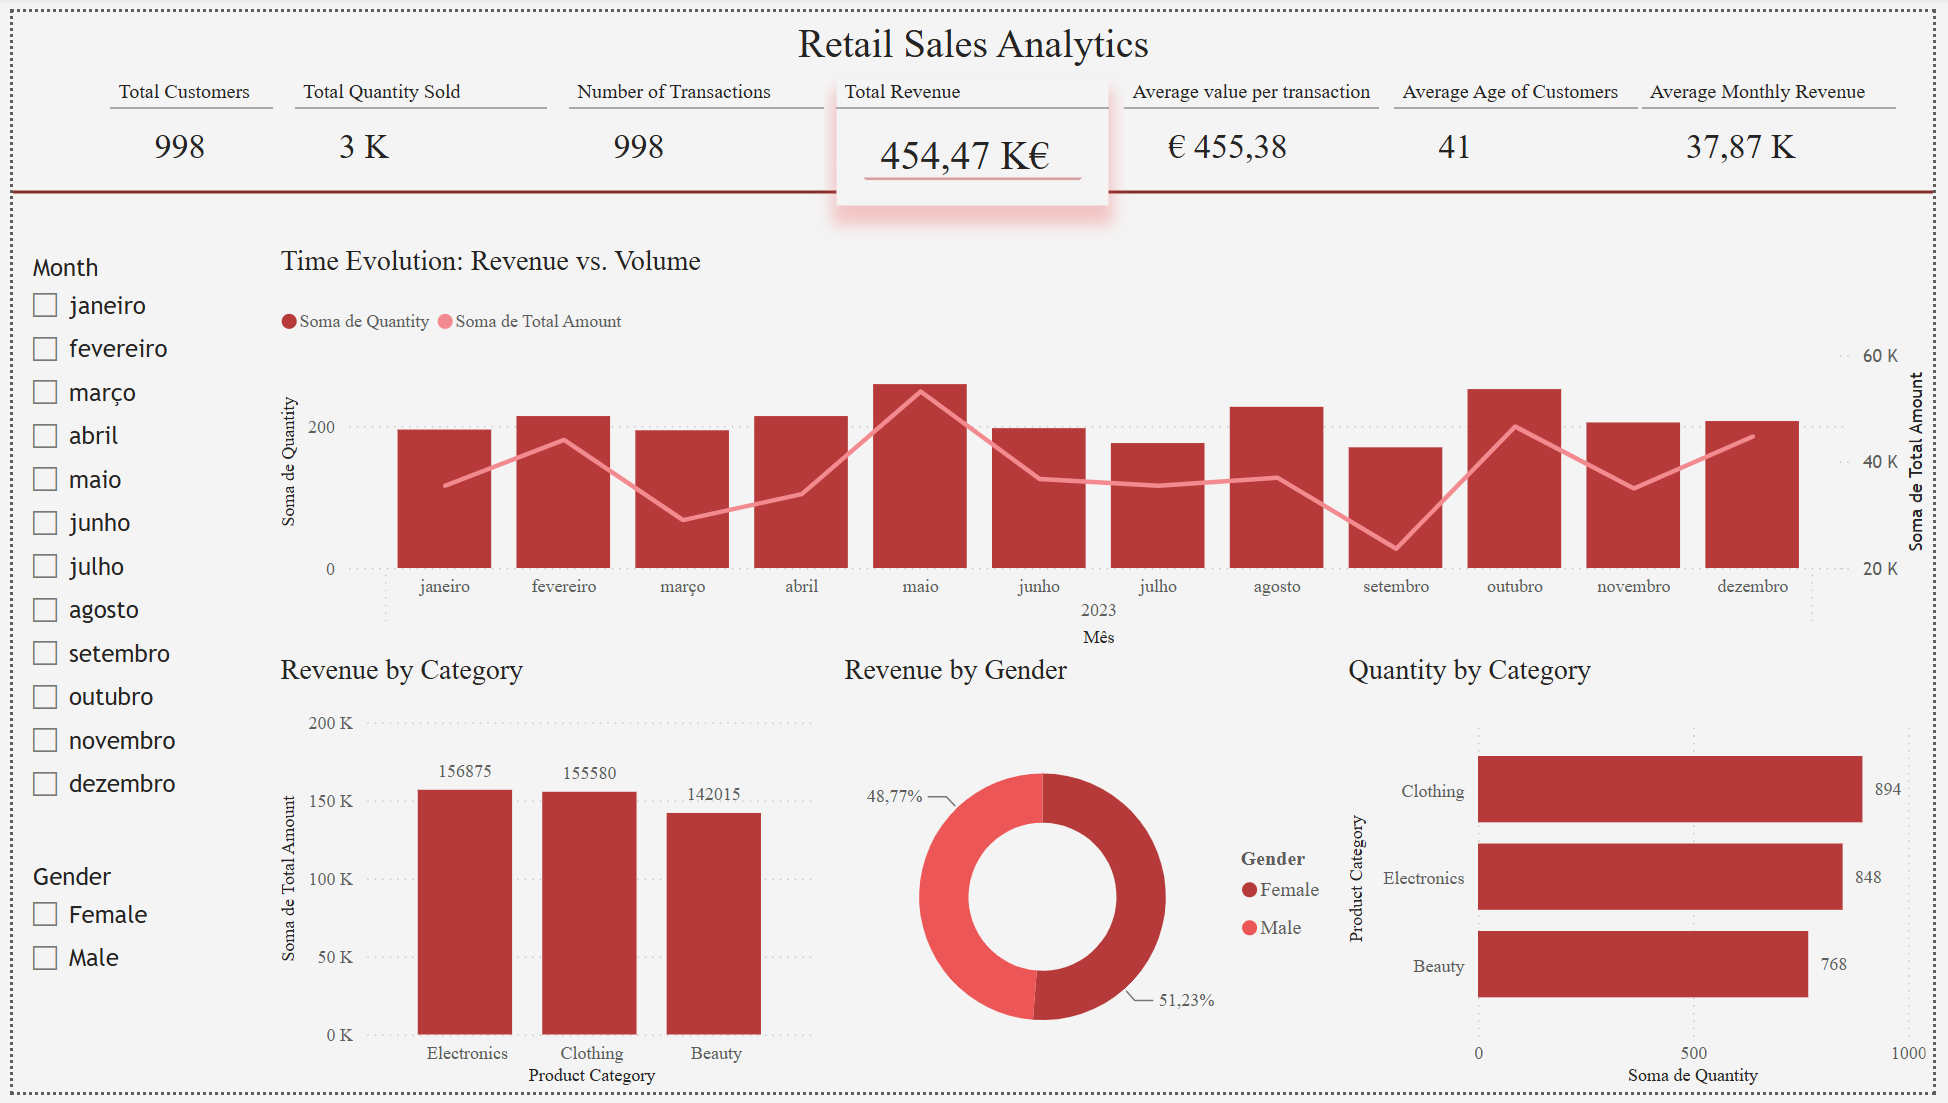

What the dashboard file says about the page in this screenshot:
{"tool":"powerbi","page":{"name":"Retail Sales Overview","canvas":[1280,720],"ordinal":0},"visuals":[{"type":"shape","box":[0,45,1280,150],"z":0},{"type":"textbox","box":[0,0,1280,45],"z":1000},{"type":"cardVisual","title":"Total Revenue","fields":{"Data":["Retail_Sale.TotalRevenue"]},"box":[548.8,45,181.2,83.8],"z":2000},{"type":"cardVisual","title":"Total Quantity Sold","fields":{"Data":["Retail_Sale.TotalQuantitySold"]},"box":[187.5,45,168.8,72.5],"z":3000},{"type":"cardVisual","title":"Number of Transactions","fields":{"Data":["Retail_Sale.TotalTransaction"]},"box":[371.2,45,168.8,72.5],"z":4000},{"type":"cardVisual","title":"Average value per transaction","fields":{"Data":["Retail_Sale.AverageTransactionValue"]},"box":[741.2,45,168.8,72.5],"z":5000},{"type":"cardVisual","title":"Average Monthly Revenue","fields":{"Data":["Retail_Sale.AverageMonthlyRevenue"]},"box":[1086.2,45,168.8,72.5],"z":6000},{"type":"cardVisual","title":"Average Age of Customers","fields":{"Data":["Dim_Customer.AverageCustomerAge"]},"box":[921,45,162,73],"z":7000},{"type":"slicer","fields":{"Values":["Dim_Date.Month"]},"box":[0,155,118.8,378.8],"z":8000},{"type":"cardVisual","title":"Total Customers","fields":{"Data":["Dim_Customer.TotalCustomers"]},"box":[65,45,107.5,72.5],"z":9000},{"type":"slicer","fields":{"Values":["Dim_Customer.Gender"]},"box":[0,561.2,118.8,88.8],"z":10000},{"type":"lineStackedColumnComboChart","title":"Time Evolution: Revenue vs. Volume","fields":{"Category":["Dim_Date.Date.Variação.Hierarquia de Datas.Ano","Dim_Date.Date.Variação.Hierarquia de Datas.Mês"],"Y":["Sum(Retail_Sale.Quantity)"],"Y2":["Sum(Retail_Sale.Total Amount)"]},"box":[173,155,1107.5,272.5],"z":11000},{"type":"columnChart","title":"Revenue by Category","fields":{"Category":["Dim_Category.Product Category"],"Y":["Sum(Retail_Sale.Total Amount)"]},"box":[172.5,427.5,367.5,292.5],"z":12000},{"type":"donutChart","title":"Revenue by Genre","fields":{"Category":["Dim_Customer.Gender"],"Y":["Sum(Retail_Sale.Total Amount)"]},"box":[548.8,427.5,336.2,292.5],"z":13000},{"type":"clusteredBarChart","title":"Quantity by Category","fields":{"Category":["Dim_Category.Product Category"],"Y":["Sum(Retail_Sale.Quantity)"]},"box":[885,428,395,292],"z":14000}]}

Visuals, with their boxes in screenshot pixels (x1, y1, x2, y2), scaled from the page's 1280x720 canvas onto the 1948x1103 screenshot:
shape: locate(0, 69, 1947, 299)
textbox: locate(0, 0, 1947, 69)
"Total Revenue" cardVisual: locate(835, 69, 1111, 197)
"Total Quantity Sold" cardVisual: locate(285, 69, 542, 180)
"Number of Transactions" cardVisual: locate(565, 69, 822, 180)
"Average value per transaction" cardVisual: locate(1128, 69, 1385, 180)
"Average Monthly Revenue" cardVisual: locate(1653, 69, 1910, 180)
"Average Age of Customers" cardVisual: locate(1402, 69, 1648, 181)
slicer - Dim_Date.Month: locate(0, 237, 181, 818)
"Total Customers" cardVisual: locate(99, 69, 263, 180)
slicer - Dim_Customer.Gender: locate(0, 860, 181, 996)
"Time Evolution: Revenue vs. Volume" lineStackedColumnComboChart: locate(263, 237, 1947, 655)
"Revenue by Category" columnChart: locate(263, 655, 822, 1102)
"Revenue by Genre" donutChart: locate(835, 655, 1347, 1102)
"Quantity by Category" clusteredBarChart: locate(1347, 656, 1947, 1102)
